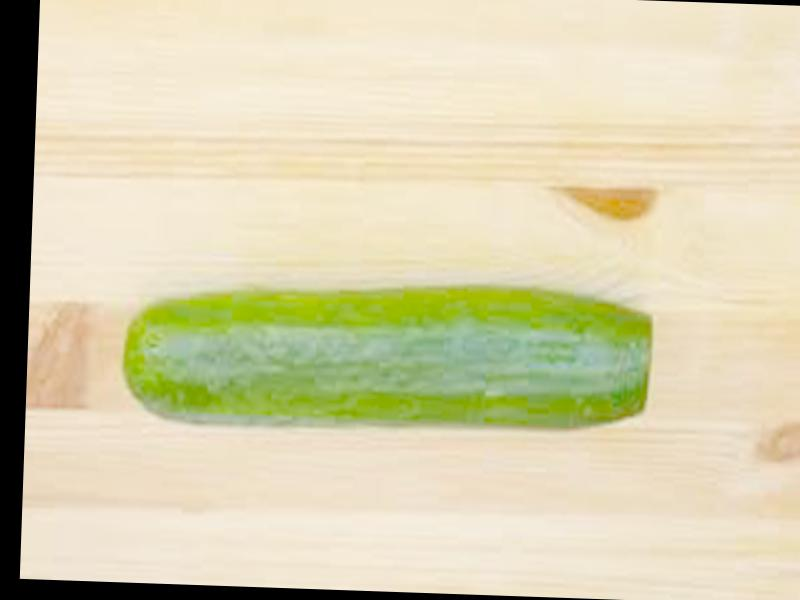Cucumber: (120, 278, 650, 439)
